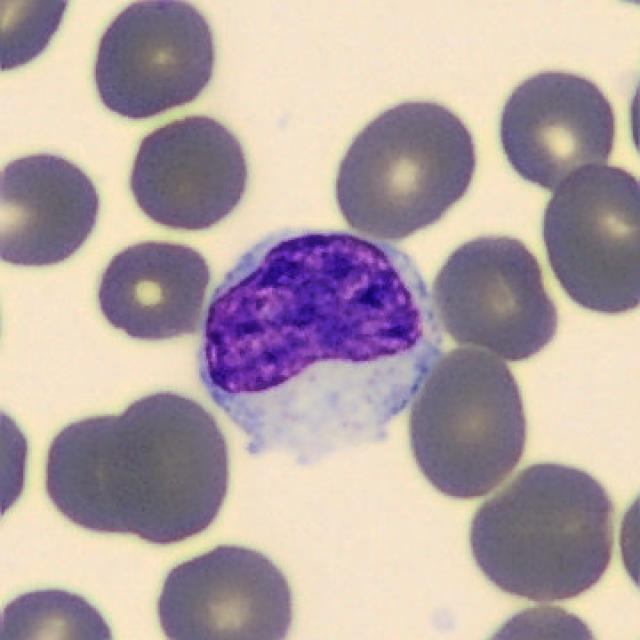Monocito: (201, 233, 439, 460)
